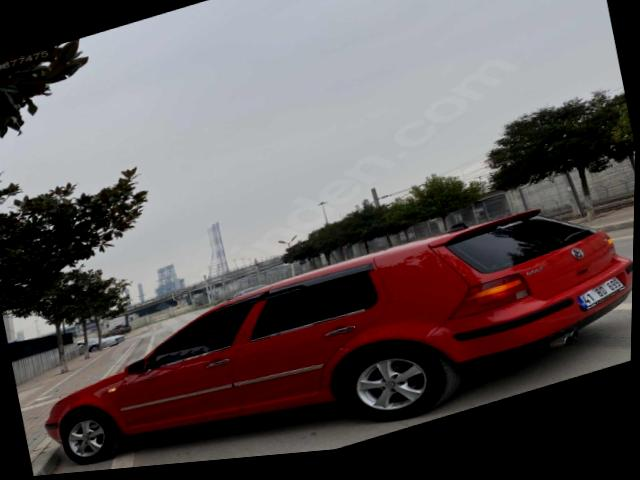plaka: (577, 277, 624, 310)
